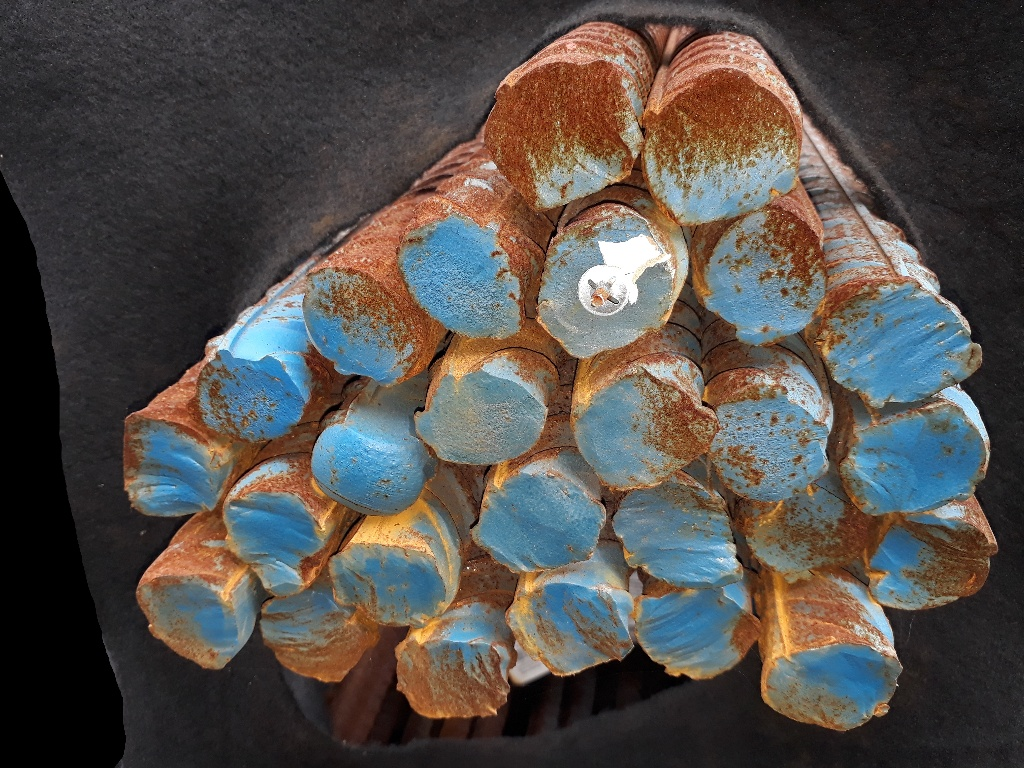dipstick: (648, 70, 797, 220), (488, 61, 633, 206), (538, 224, 675, 356), (822, 288, 973, 405), (577, 374, 715, 491), (843, 406, 991, 514), (704, 211, 819, 340), (402, 219, 521, 340), (615, 481, 741, 585), (764, 644, 902, 732), (482, 472, 607, 567), (714, 396, 829, 499), (305, 269, 411, 380), (423, 371, 548, 464), (869, 520, 997, 608), (635, 588, 759, 677), (512, 584, 633, 674), (329, 539, 452, 624), (134, 574, 240, 667), (124, 421, 229, 513), (225, 491, 324, 588), (263, 591, 364, 686), (744, 497, 865, 573), (203, 349, 305, 438), (391, 641, 509, 715), (313, 431, 421, 511)
